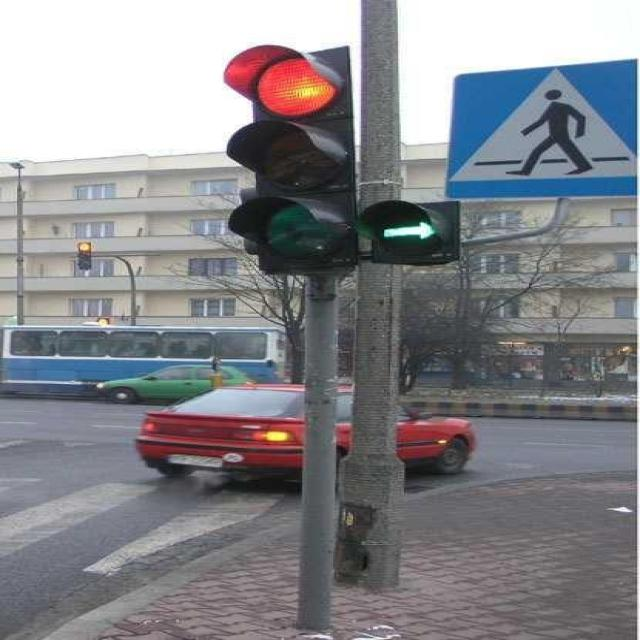Traffic Light -Red-: (230, 37, 359, 277), (77, 240, 93, 272)
